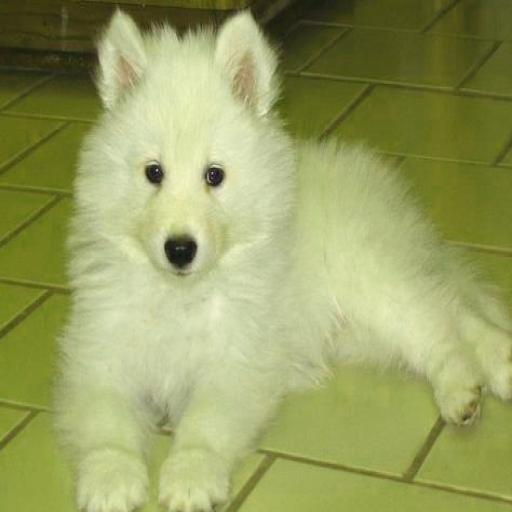dog_face: (100, 8, 277, 282)
